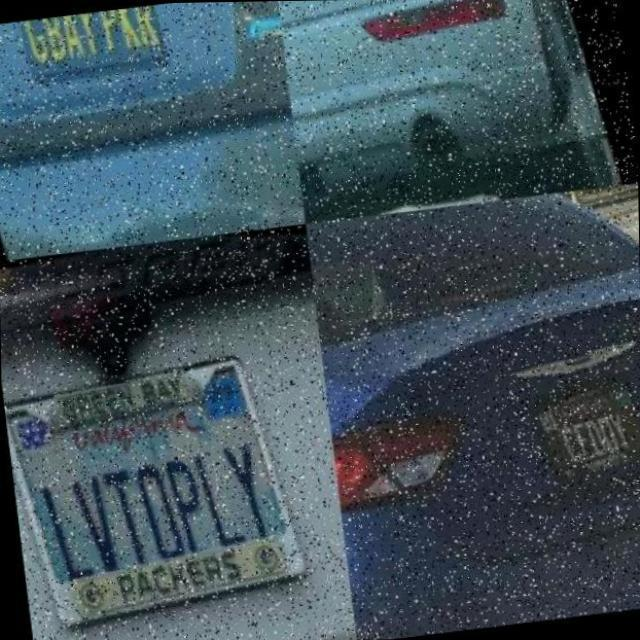license_plate: (0, 314, 318, 640), (5, 3, 179, 99), (523, 360, 640, 477), (275, 0, 330, 40)
